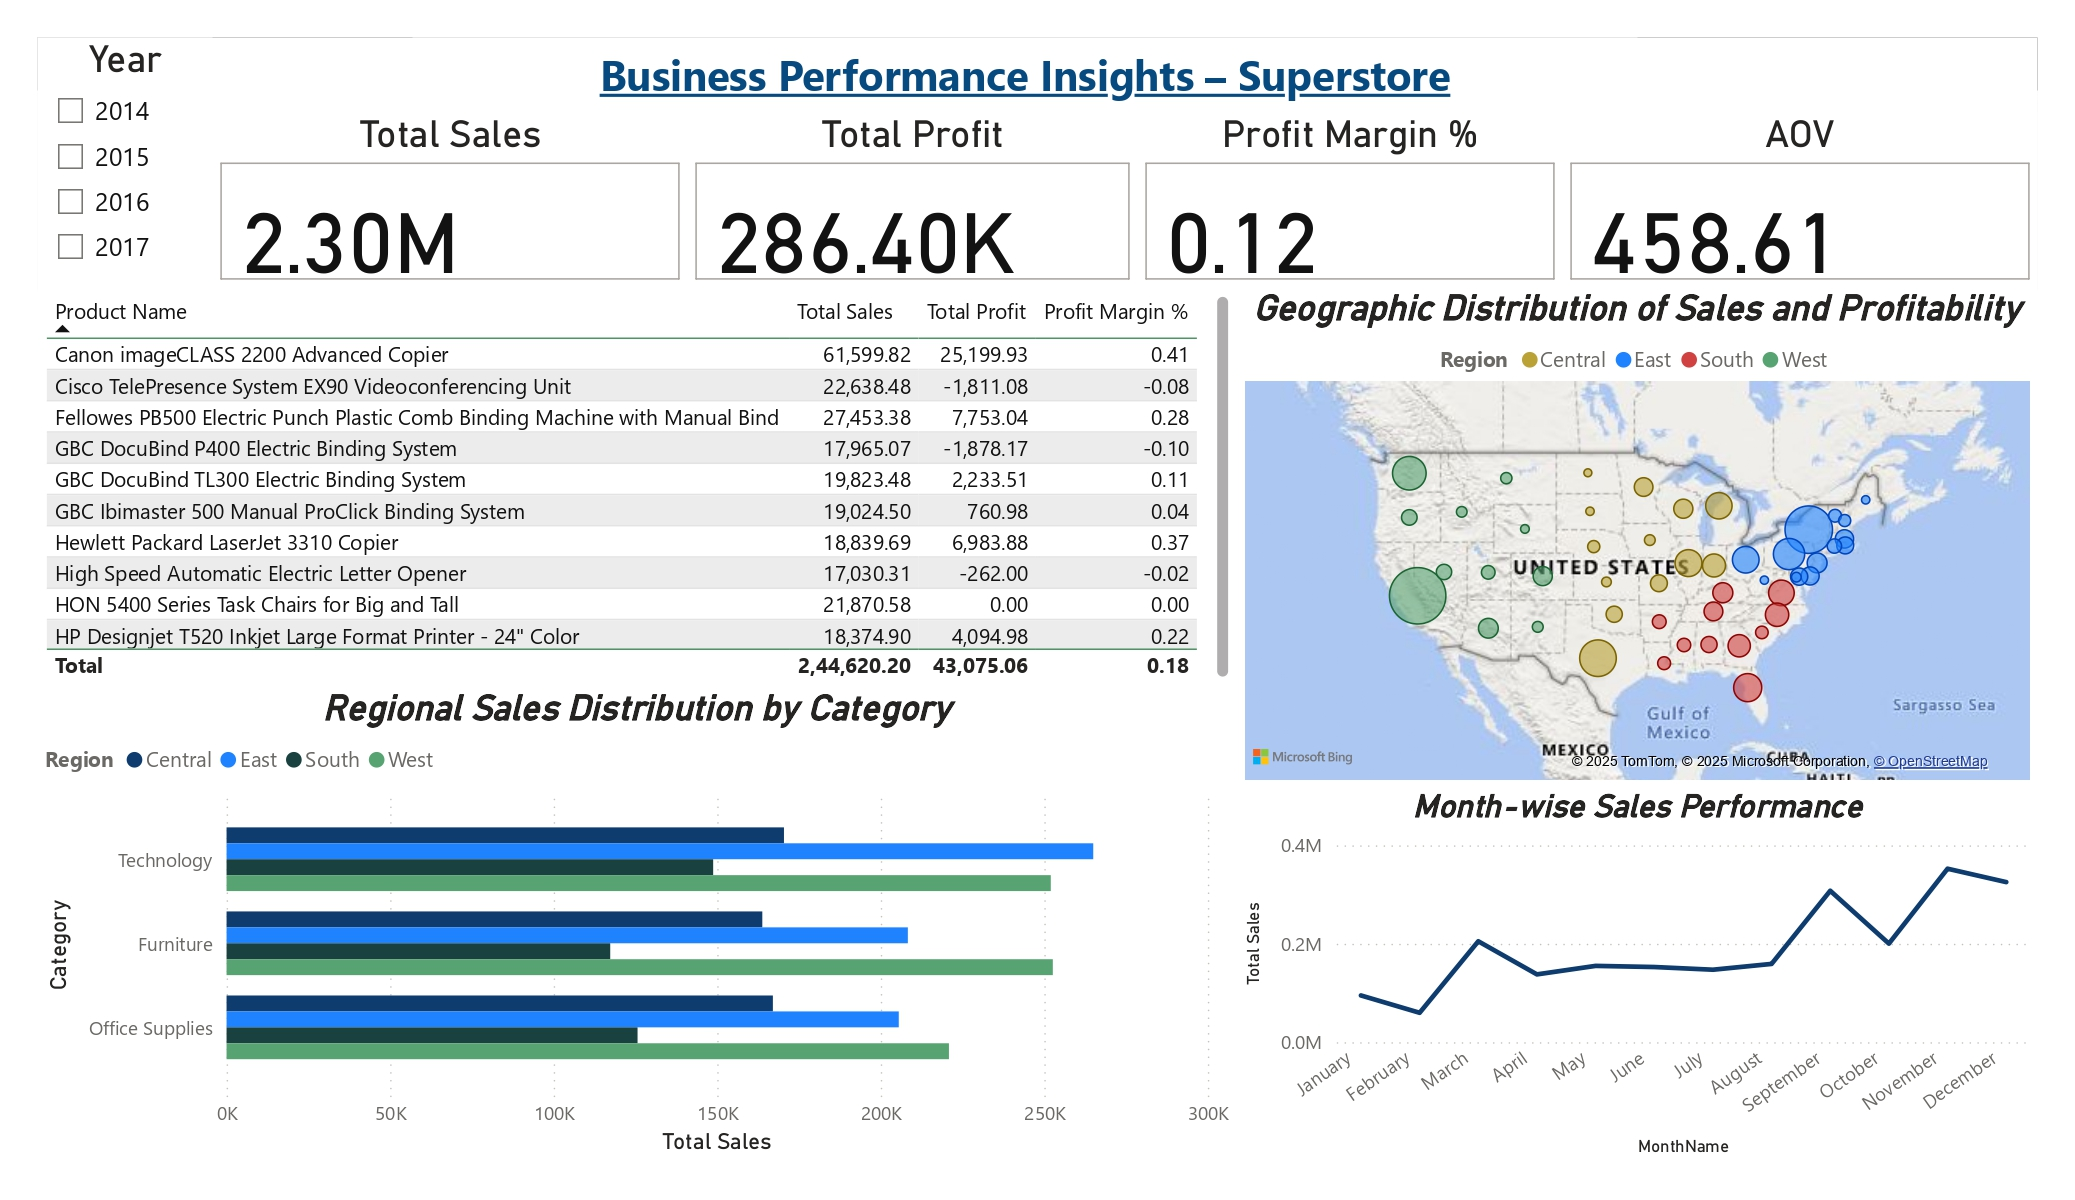

The dashboard page shown, as its layout file describes it:
{"tool":"powerbi","page":{"name":"Overview","canvas":[1280,720],"ordinal":0},"visuals":[{"type":"cardVisual","title":"Total Sales","fields":{"Data":["MeasuresTable.Total Sales"]},"box":[112,48,304,112],"z":0},{"type":"cardVisual","title":"Total Profit","fields":{"Data":["MeasuresTable.Total Profit"]},"box":[416,48,288,112],"z":1000},{"type":"cardVisual","title":"Profit Margin %","fields":{"Data":["MeasuresTable.Profit Margin %"]},"box":[704,48,272,112],"z":2000},{"type":"cardVisual","title":"AOV","fields":{"Data":["MeasuresTable.AOV"]},"box":[976,48,304,112],"z":3000},{"type":"slicer","title":"Year","fields":{"Values":["DateTable.Year"]},"box":[0,0,112,160],"z":4000},{"type":"lineChart","title":"Month-wise Sales Performance","fields":{"Y":["MeasuresTable.Total Sales"],"Category":["Date.MonthName"]},"box":[768,480,512,240],"z":5000},{"type":"map","title":"Geographic Distribution of Sales and Profitability","fields":{"Category":["Superstore Dataset.State"],"Series":["Superstore Dataset.Region"],"Size":["MeasuresTable.Total Sales"]},"box":[768,160,512,320],"z":6000},{"type":"clusteredBarChart","title":"Regional Sales Distribution by Category","fields":{"Category":["Superstore Dataset.Category"],"Y":["MeasuresTable.Total Sales"],"Series":["Superstore Dataset.Region"]},"box":[0,416,768,304],"z":7000},{"type":"tableEx","fields":{"Values":["Superstore Dataset.Product Name","MeasuresTable.Total Sales","MeasuresTable.Total Profit","MeasuresTable.Profit Margin %"]},"box":[0,160,768,256],"z":8000},{"type":"textbox","box":[240,0,784,48],"z":9000}]}

Visuals, with their boxes in screenshot pixels (x1, y1, x2, y2):
"Total Sales" cardVisual: (left=212, top=112, right=688, bottom=288)
"Total Profit" cardVisual: (left=688, top=112, right=1138, bottom=288)
"Profit Margin %" cardVisual: (left=1138, top=112, right=1562, bottom=288)
"AOV" cardVisual: (left=1562, top=112, right=2038, bottom=288)
"Year" slicer: (left=38, top=38, right=212, bottom=288)
"Month-wise Sales Performance" lineChart: (left=1238, top=788, right=2038, bottom=1162)
"Geographic Distribution of Sales and Profitability" map: (left=1238, top=288, right=2038, bottom=788)
"Regional Sales Distribution by Category" clusteredBarChart: (left=38, top=688, right=1238, bottom=1162)
tableEx - Superstore Dataset.Product Name x MeasuresTable.Total Sales: (left=38, top=288, right=1238, bottom=688)
textbox: (left=412, top=38, right=1638, bottom=112)
